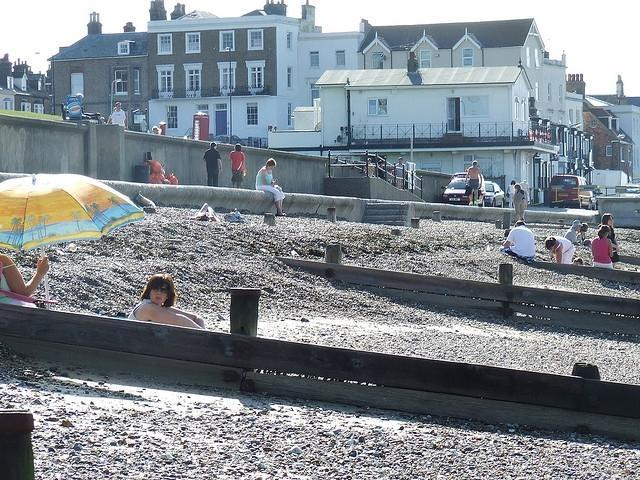car: (548, 175, 594, 209), (442, 176, 474, 204), (484, 182, 506, 208)
